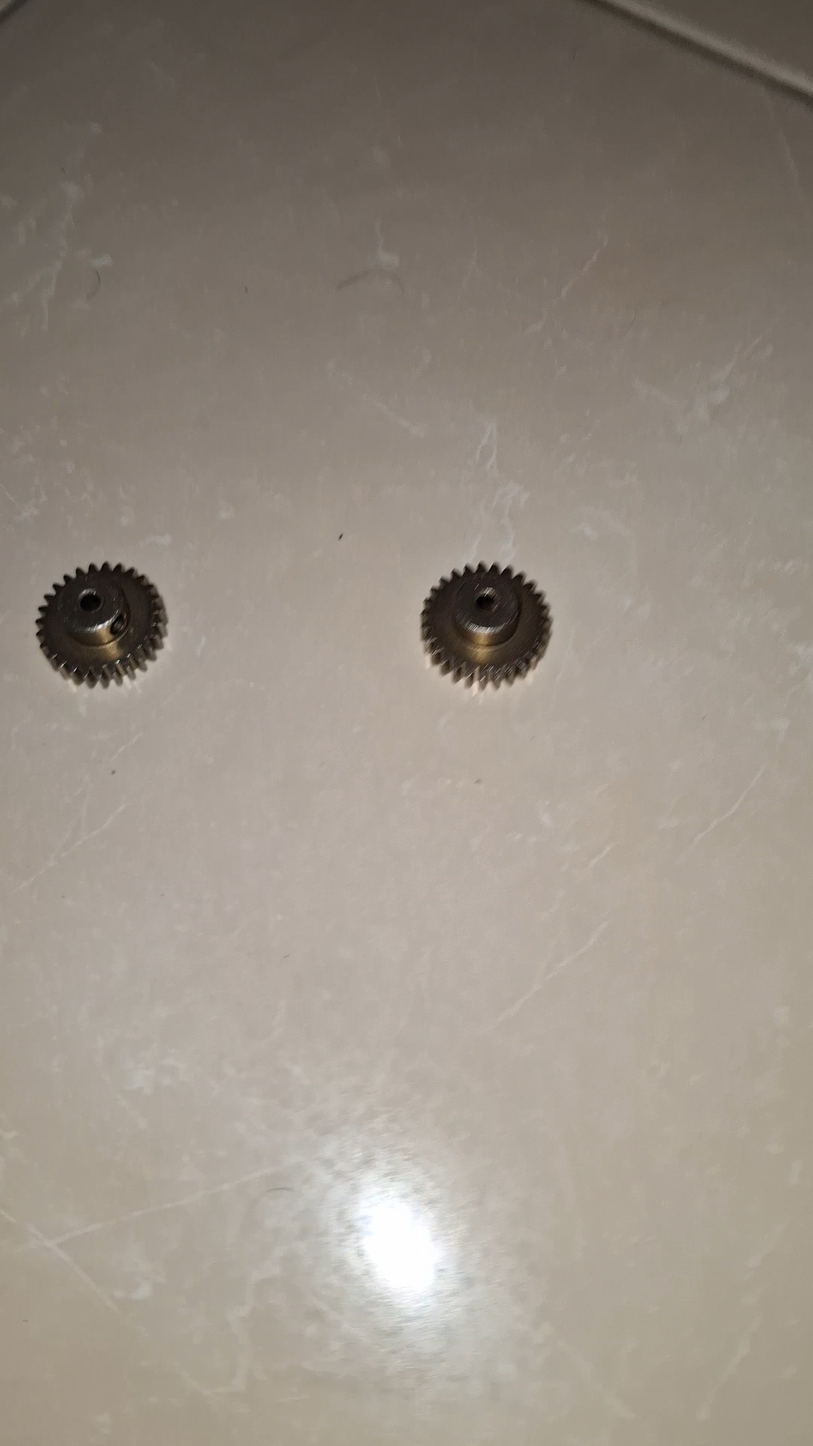spur gear: (422, 563, 551, 686), (37, 563, 166, 685)
